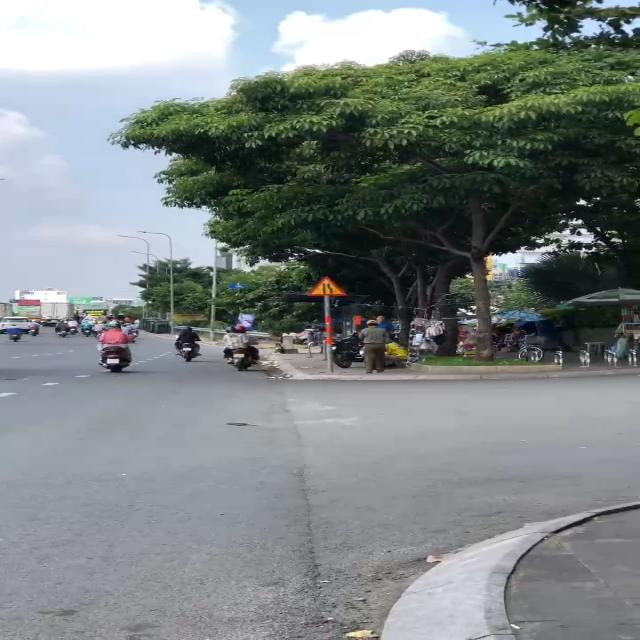Bien bao duong bi thu hep: (302, 274, 351, 299)
